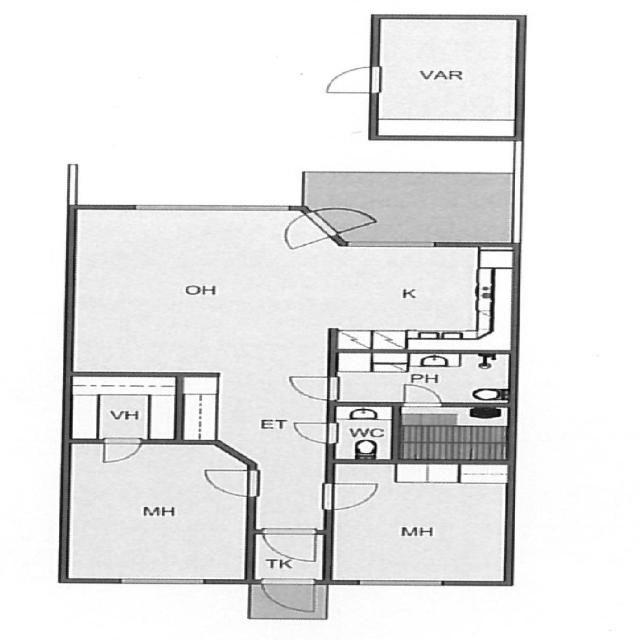door: (284, 200, 371, 249), (302, 64, 382, 100), (253, 578, 316, 617), (253, 527, 325, 561), (282, 371, 338, 403), (202, 463, 253, 498), (318, 482, 381, 508), (287, 419, 341, 446), (97, 438, 141, 462), (398, 380, 438, 402)
window: (117, 193, 290, 214), (338, 234, 441, 253), (115, 576, 208, 587), (346, 577, 449, 586)
zone: (70, 206, 330, 377), (57, 443, 253, 586), (334, 459, 511, 581), (338, 238, 517, 352), (374, 12, 518, 143), (327, 349, 510, 408), (56, 372, 182, 439), (396, 402, 513, 460), (329, 402, 394, 460)
